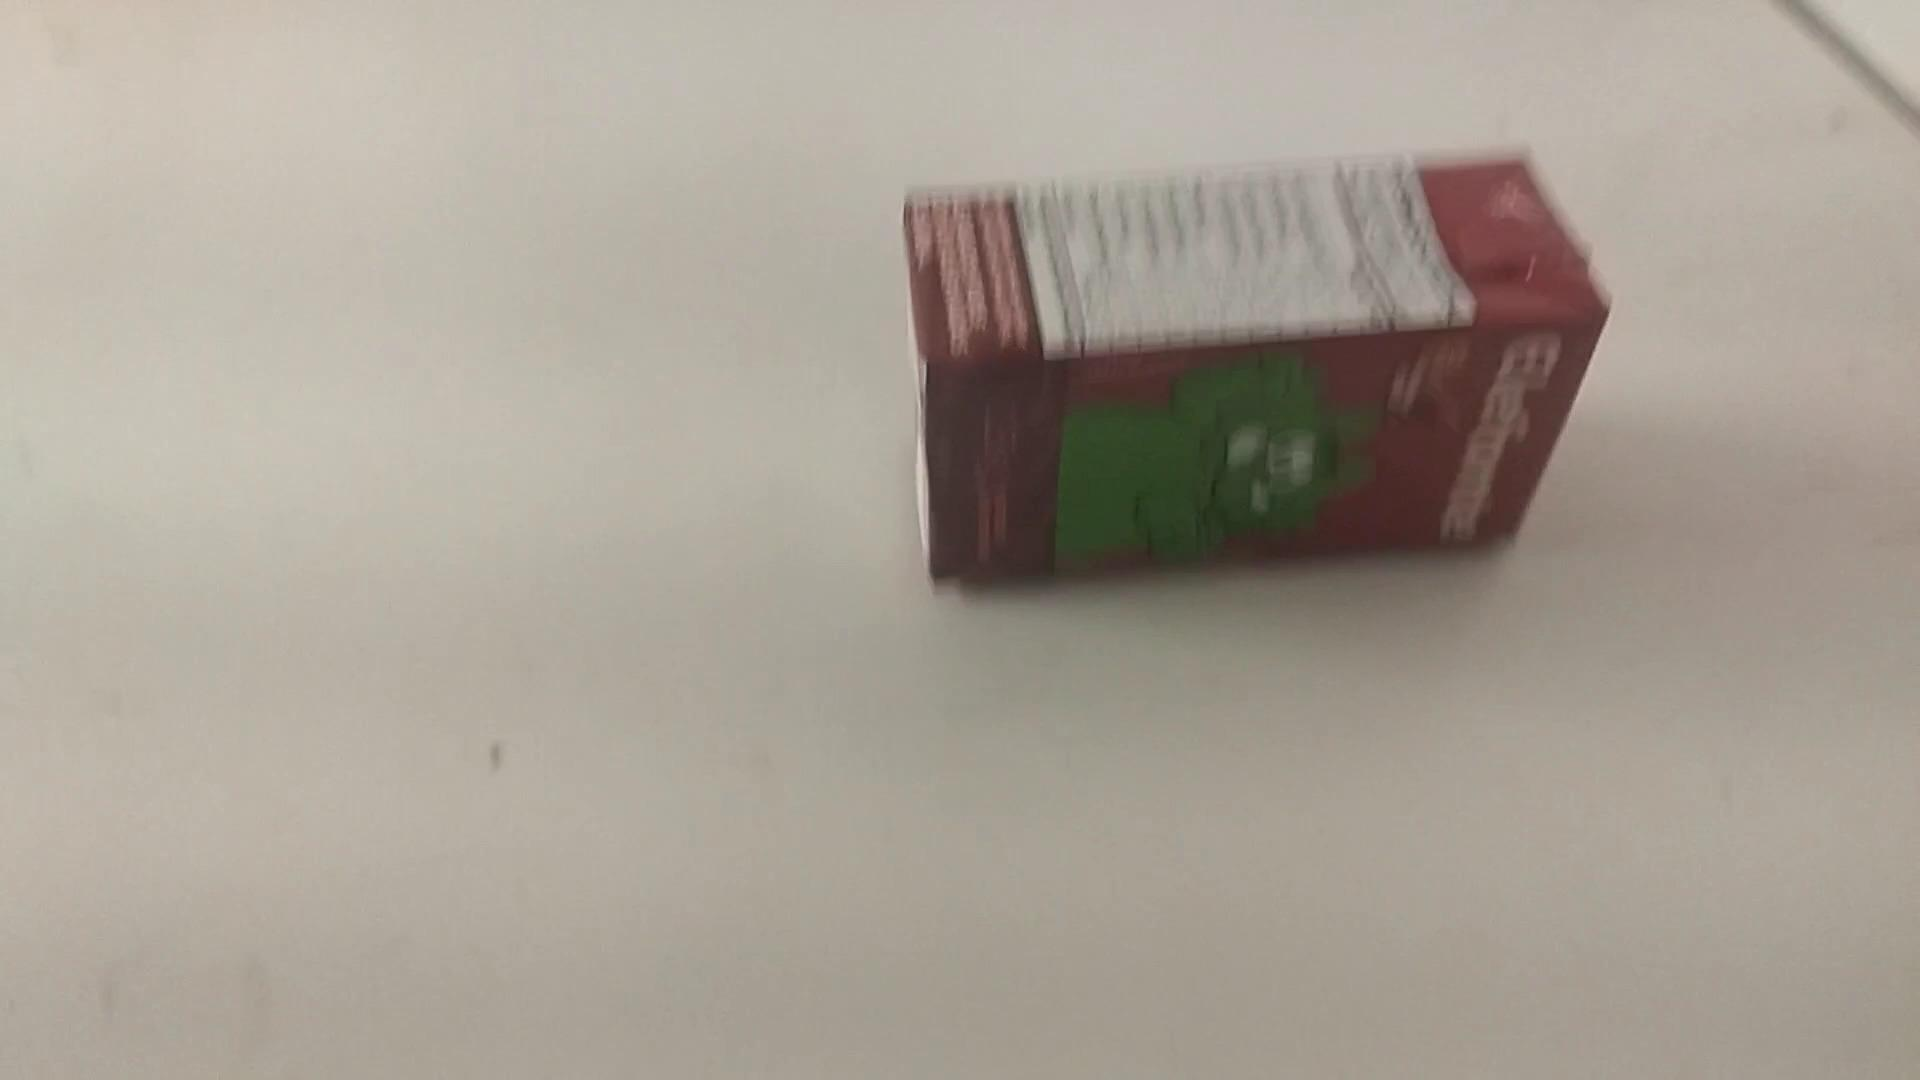tomate: (866, 129, 1636, 612)
